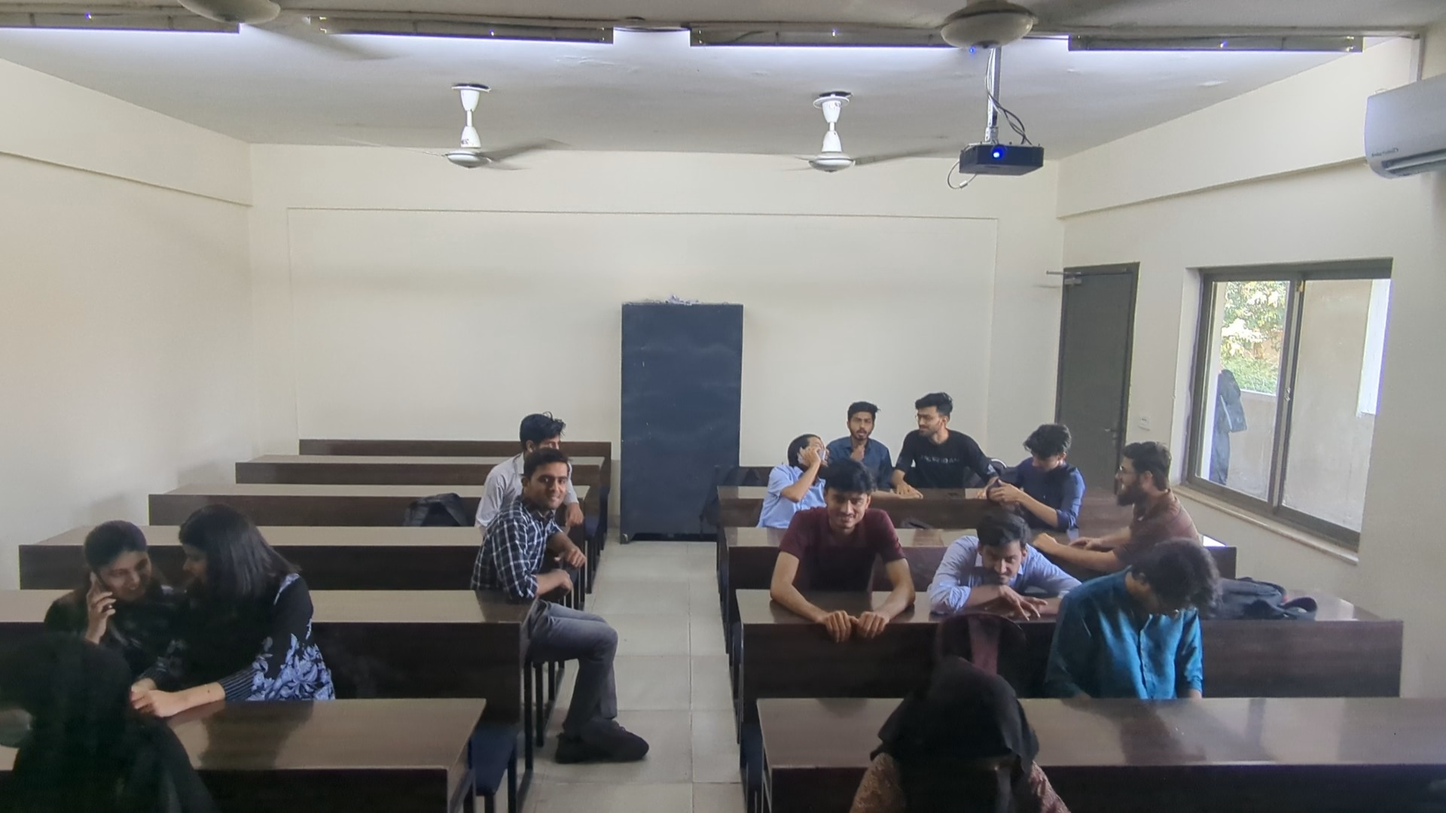look_forward: (512, 465, 596, 565), (819, 477, 882, 565), (838, 396, 881, 457)
read: (3, 605, 146, 790)
sleep: (953, 519, 1060, 627)
turn_head: (1101, 410, 1237, 573), (167, 525, 293, 659), (897, 387, 955, 487), (513, 411, 582, 466)
using_device: (917, 660, 1054, 813), (1104, 548, 1210, 701), (76, 507, 167, 636), (978, 412, 1077, 527), (762, 409, 826, 492)
